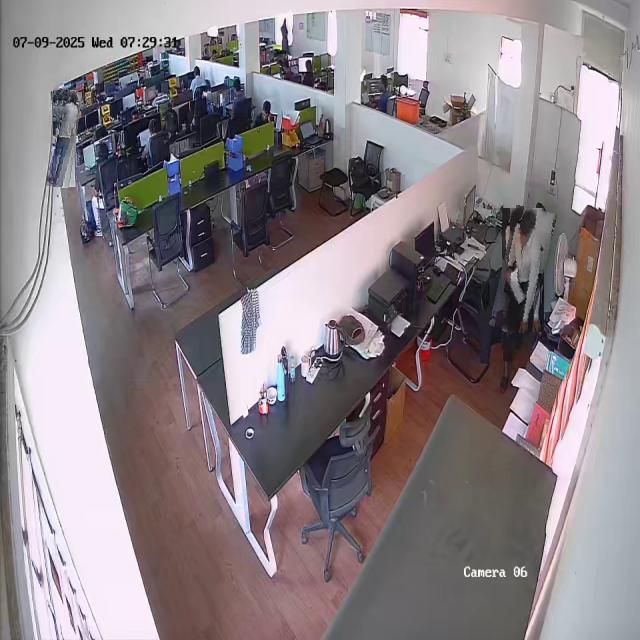person: (495, 207, 551, 333), (50, 89, 79, 188)
